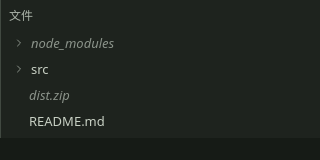
it: FilePanel 右键菜单 › 文件行右键：打开/复制路径对象 = 节点绝对路径；动作后菜单关闭
Right-click the text "README.md" at (67, 121), box 29,112 -> 105,130
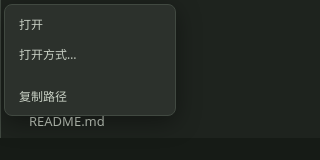
Click the button "打开". click: (90, 24)
box: 9,9 -> 171,39
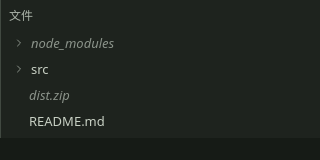
Expected: the button "复制路径" is gone
